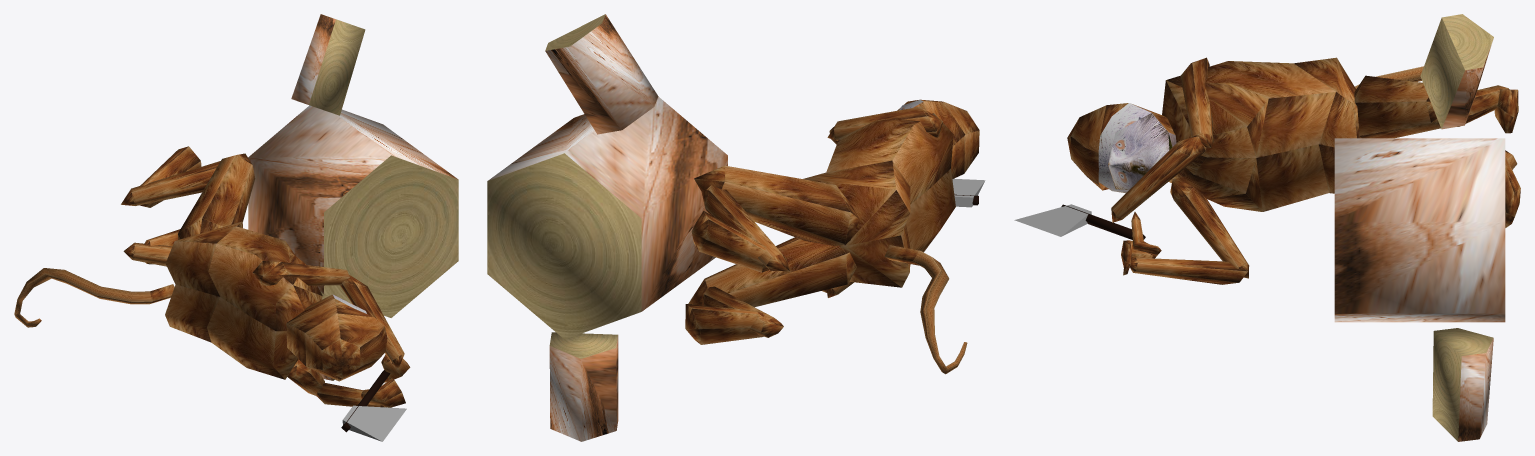
File: monkey_000508.obj
3 views of the same model, side by side, from view 1: azimuth 30°, elevation 25°; view 2: azimuth 150°, elevation 25°; view 3: azimuth 270°, elevation 25° (orthographic). The views are drawn at different scales.
Visible parts, largest first — view 1: table_Cylinder.015, Cylinder_Cylinder.001, head.002_Sphere.002, log2_Cylinder.016, Cylinder.001_Cylinder.002, Cylinder.013_Cylinder, Cylinder.004_Cylinder.005, axe_Cylinder.014, Cylinder.008_Cylinder.009, Cylinder.009_Cylinder.011, Cylinder.006_Cylinder.007, Cylinder.010_Cylinder.012 (+3 smaller); view 2: table_Cylinder.015, Cylinder_Cylinder.001, log2_Cylinder.016, Cylinder.001_Cylinder.002, log_Cylinder.017, Cylinder.002_Cylinder.003, Cylinder.006_Cylinder.007, Cylinder.005_Cylinder.006, Cylinder.013_Cylinder, head.002_Sphere.002, Cylinder.004_Cylinder.005, Cylinder.008_Cylinder.009 (+2 smaller); view 3: table_Cylinder.015, Cylinder_Cylinder.001, head.002_Sphere.002, log_Cylinder.017, log2_Cylinder.016, Cylinder.001_Cylinder.002, Cylinder.011_Cylinder.013, Cylinder.009_Cylinder.011, Cylinder.010_Cylinder.012, Cylinder.008_Cylinder.009, axe_Cylinder.014, Cylinder.006_Cylinder.007 (+3 smaller).
Boxes of the visible parts, left/top/right/bottom form: table_Cylinder.015: left=248, top=105, right=458, bottom=317; Cylinder_Cylinder.001: left=165, top=221, right=322, bottom=379; head.002_Sphere.002: left=286, top=294, right=387, bottom=381; log2_Cylinder.016: left=291, top=14, right=365, bottom=115; Cylinder.001_Cylinder.002: left=178, top=153, right=255, bottom=239; Cylinder.013_Cylinder: left=14, top=268, right=174, bottom=327; Cylinder.004_Cylinder.005: left=121, top=161, right=220, bottom=205; axe_Cylinder.014: left=341, top=370, right=406, bottom=441; Cylinder.008_Cylinder.009: left=252, top=261, right=349, bottom=285; Cylinder.009_Cylinder.011: left=340, top=274, right=404, bottom=368; Cylinder.006_Cylinder.007: left=140, top=146, right=201, bottom=207; Cylinder.010_Cylinder.012: left=316, top=383, right=384, bottom=407; table_Cylinder.015: left=487, top=96, right=727, bottom=339; Cylinder_Cylinder.001: left=803, top=113, right=955, bottom=287; log2_Cylinder.016: left=545, top=14, right=658, bottom=134; Cylinder.001_Cylinder.002: left=694, top=165, right=859, bottom=246; log_Cylinder.017: left=549, top=332, right=618, bottom=441; Cylinder.002_Cylinder.003: left=688, top=237, right=856, bottom=307; Cylinder.006_Cylinder.007: left=691, top=211, right=769, bottom=272; Cylinder.005_Cylinder.006: left=685, top=304, right=764, bottom=344; Cylinder.013_Cylinder: left=885, top=245, right=967, bottom=374; head.002_Sphere.002: left=897, top=99, right=979, bottom=179; Cylinder.004_Cylinder.005: left=701, top=185, right=789, bottom=271; Cylinder.008_Cylinder.009: left=827, top=106, right=942, bottom=140; table_Cylinder.015: left=1334, top=138, right=1505, bottom=322; Cylinder_Cylinder.001: left=1162, top=57, right=1361, bottom=211; head.002_Sphere.002: left=1067, top=103, right=1176, bottom=193; log_Cylinder.017: left=1432, top=328, right=1493, bottom=441; log2_Cylinder.016: left=1420, top=14, right=1493, bottom=129; Cylinder.001_Cylinder.002: left=1354, top=75, right=1440, bottom=138; Cylinder.011_Cylinder.013: left=1170, top=178, right=1249, bottom=278; Cylinder.009_Cylinder.011: left=1111, top=136, right=1206, bottom=222; Cylinder.010_Cylinder.012: left=1130, top=257, right=1247, bottom=284; Cylinder.008_Cylinder.009: left=1180, top=57, right=1213, bottom=147; axe_Cylinder.014: left=1014, top=204, right=1145, bottom=239; Cylinder.006_Cylinder.007: left=1494, top=89, right=1518, bottom=133.
Size of the model in its own units: 2.05 by 1.83 by 2.06.
